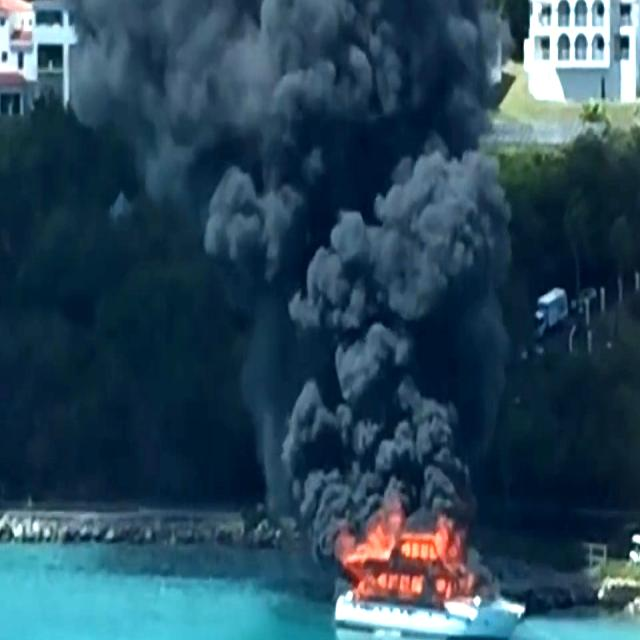smoke: (251, 76, 487, 498), (130, 0, 479, 204)
